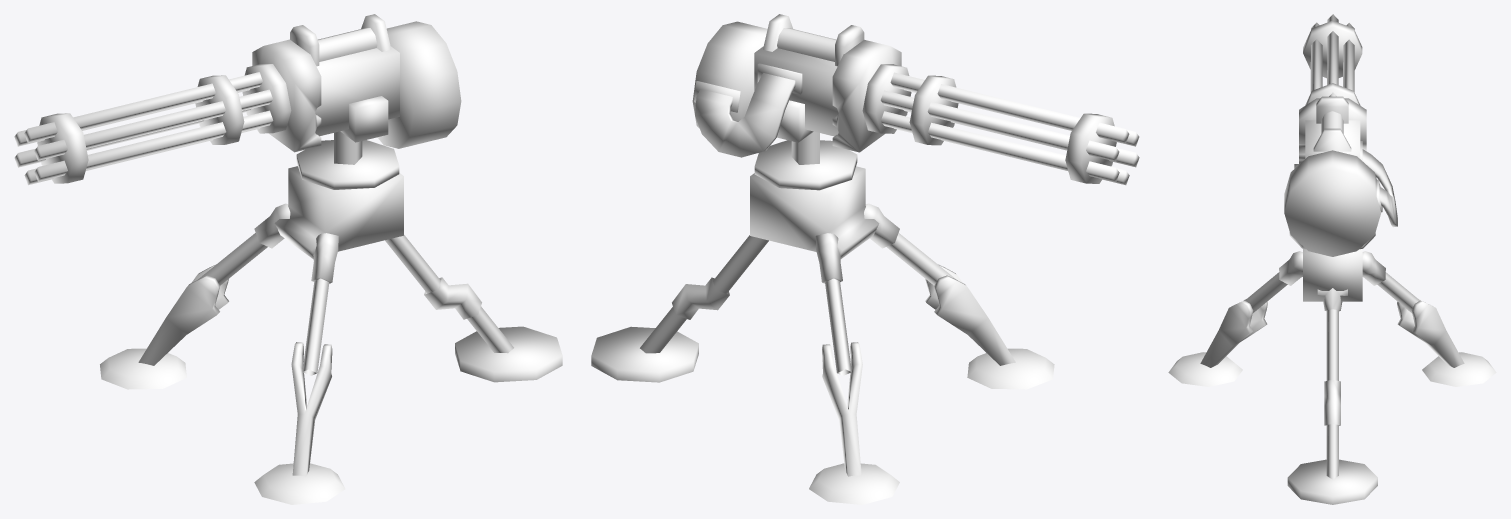
File: turret.FBX
3 views of the same model, side by side, from view 1: azimuth 30°, elevation 25°; view 2: azimuth 150°, elevation 25°; view 3: azimuth 270°, elevation 25° (orthographic). The views are drawn at different scales.
Visible parts, largest first — view 1: leg, body, po; view 2: leg, body, po; view 3: leg, body, po.
Boxes of the visible parts, <box> form: leg: <box>100,166,562,504</box>; body: <box>252,14,461,189</box>; po: <box>14,64,291,185</box>; leg: <box>591,166,1054,504</box>; body: <box>692,14,901,190</box>; po: <box>862,64,1139,185</box>; leg: <box>1168,249,1496,504</box>; body: <box>1284,96,1397,256</box>; po: <box>1303,14,1362,105</box>.
Size of the model in its own units: 185 by 123 by 126.
Materials: 1 (1 with a texture image).
